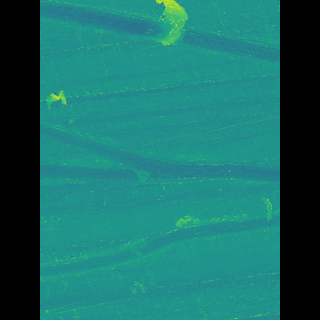Loch: (68, 118, 251, 197), (69, 207, 249, 280), (67, 0, 250, 67), (149, 0, 181, 51), (71, 84, 92, 117)
